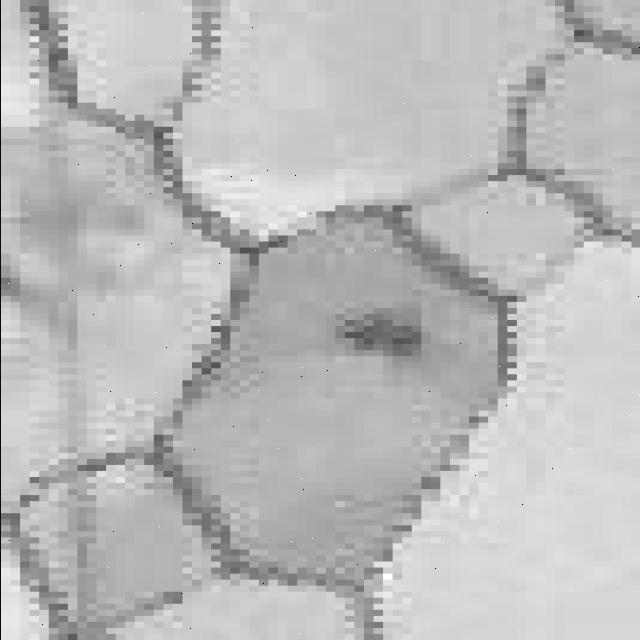good_void: (326, 307, 430, 358)
